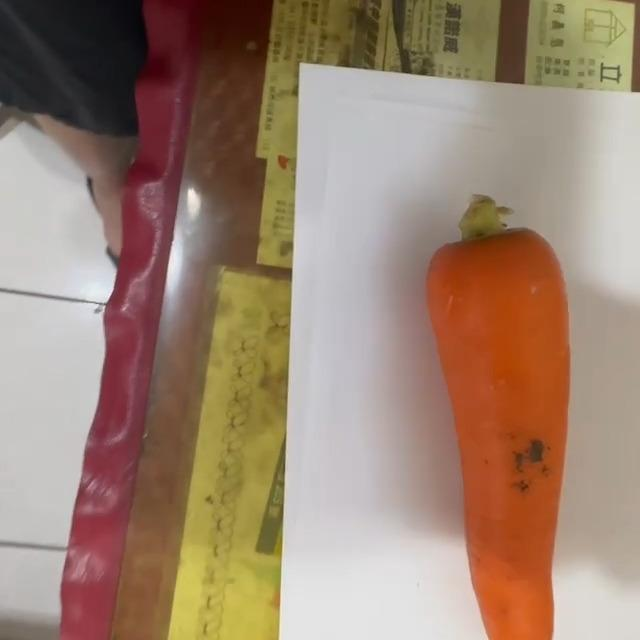carrot: (425, 195, 573, 640)
